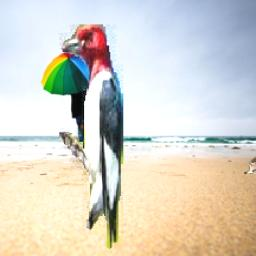Cuckoo: (244, 152, 256, 175)
Woodpecker: (59, 25, 123, 250)
